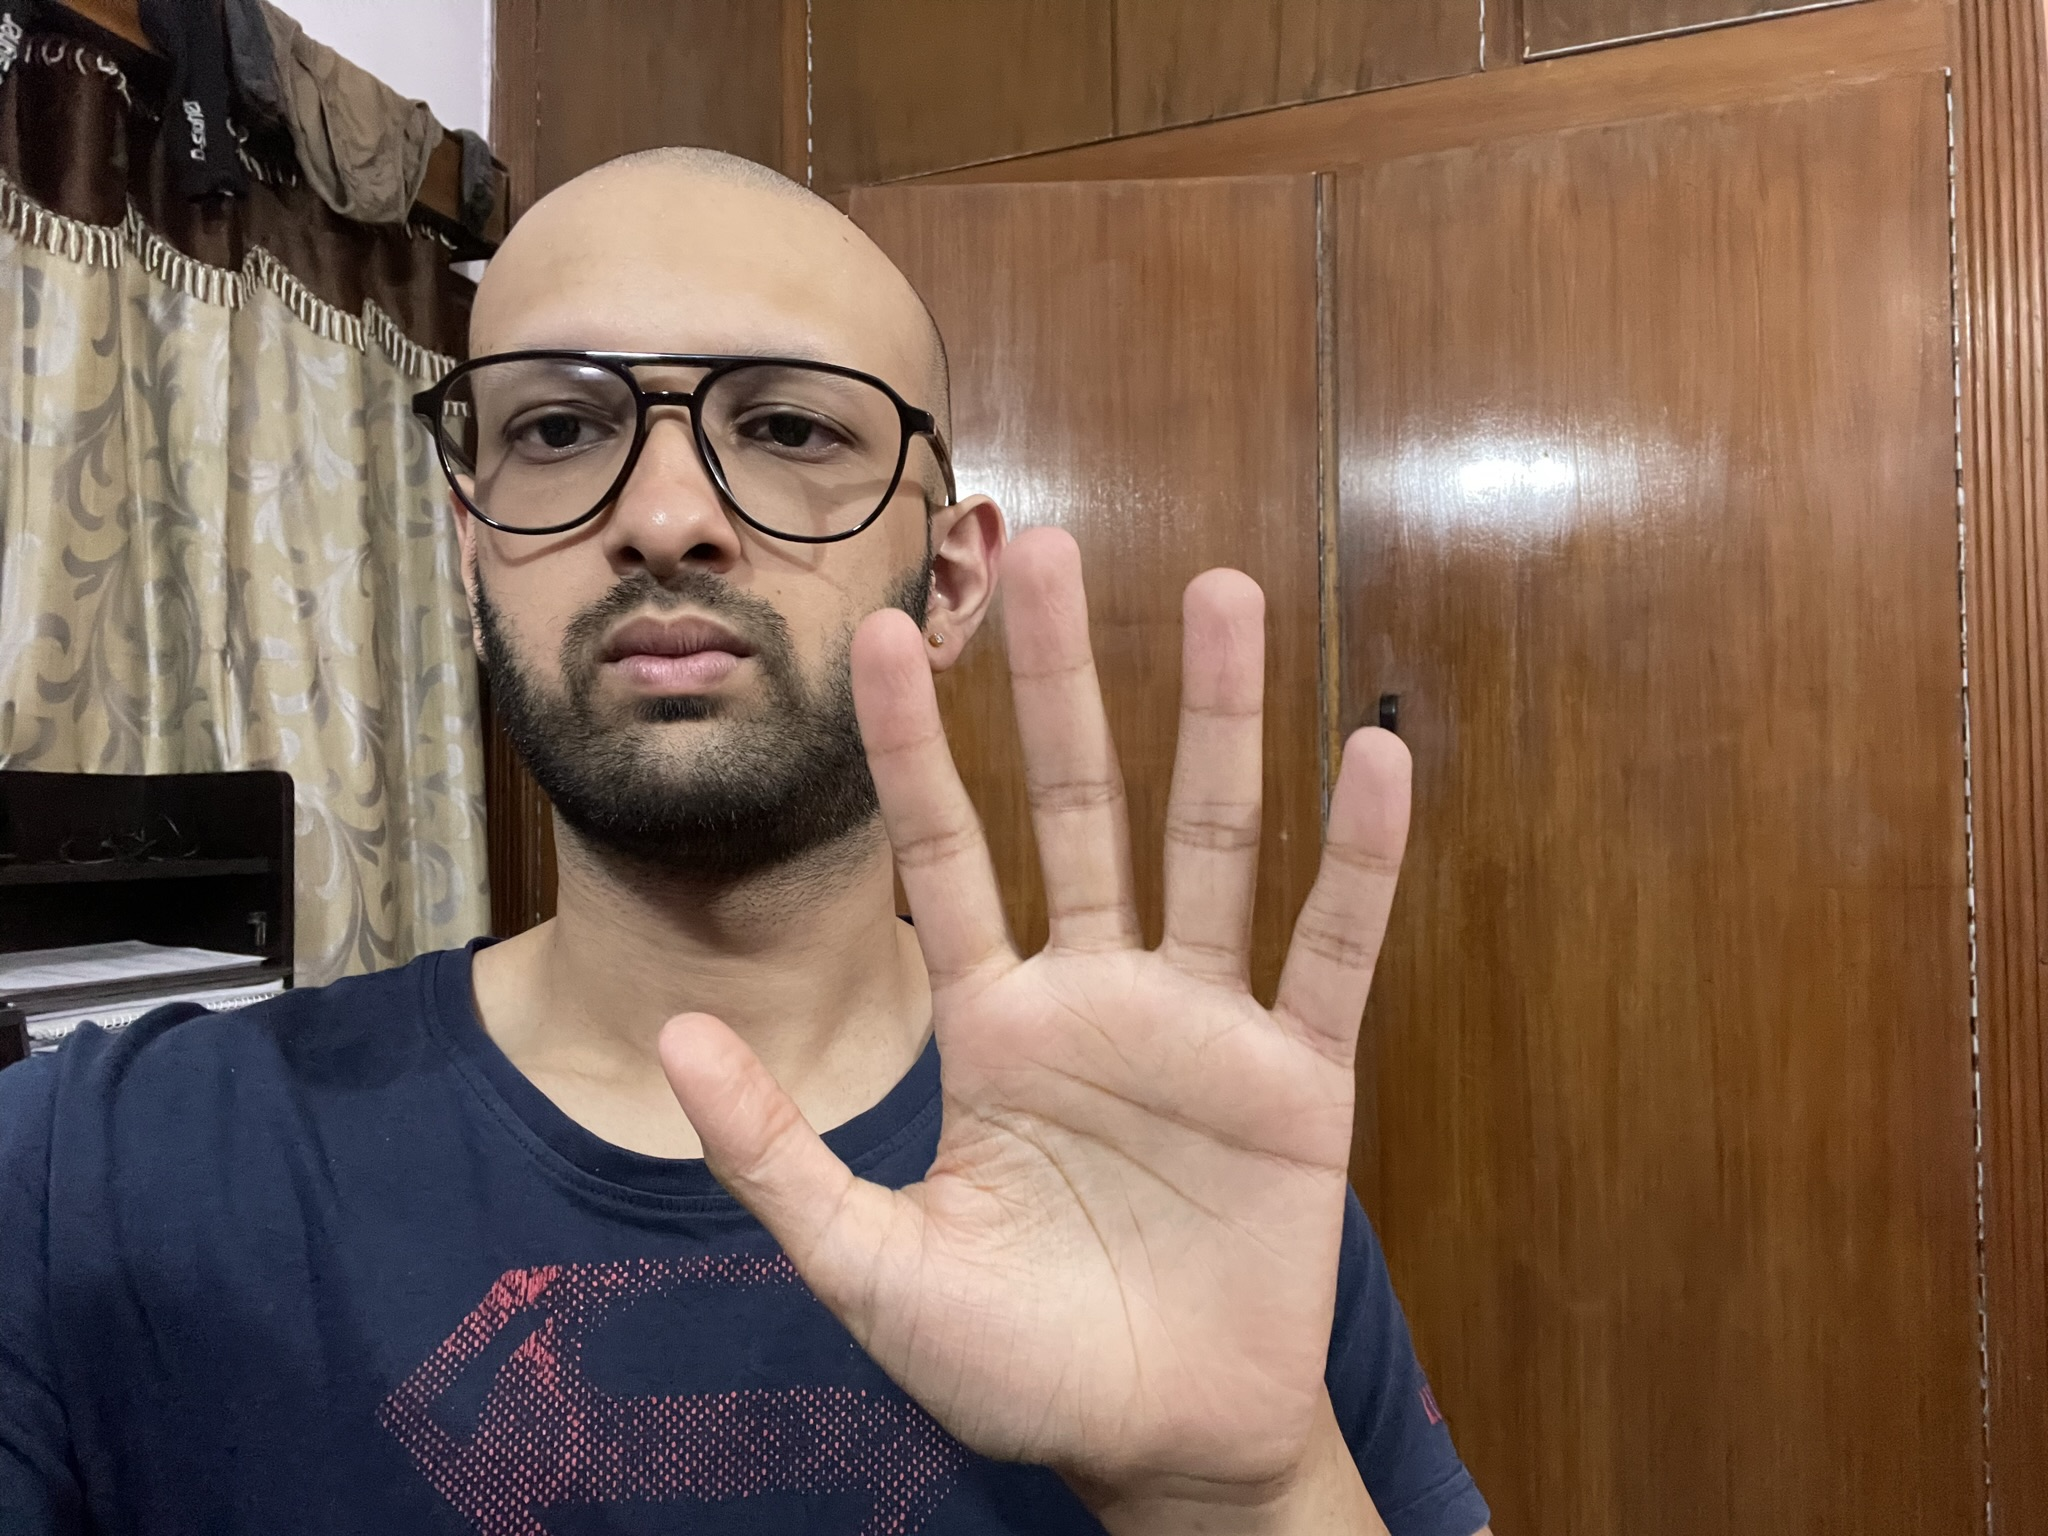Hello: (642, 520, 1429, 1492)
